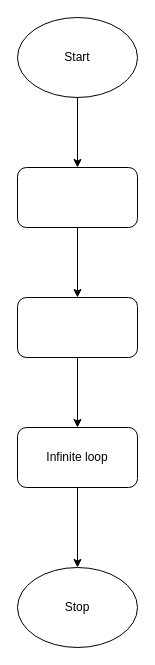
The diagram is 155 pixels wide and 665 high, and some of its shapes have lost their labels. Each missing label, with the centre of its shape:
Call GPIO_F_Init function: point 77,197
Call PWM0_Init function: point 77,327
